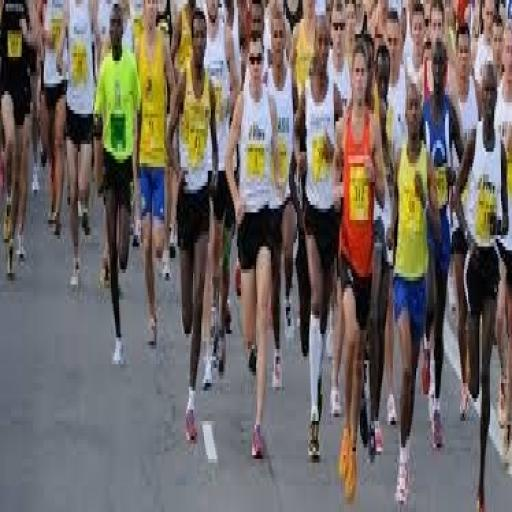running: (223, 26, 285, 466), (166, 4, 220, 451)
